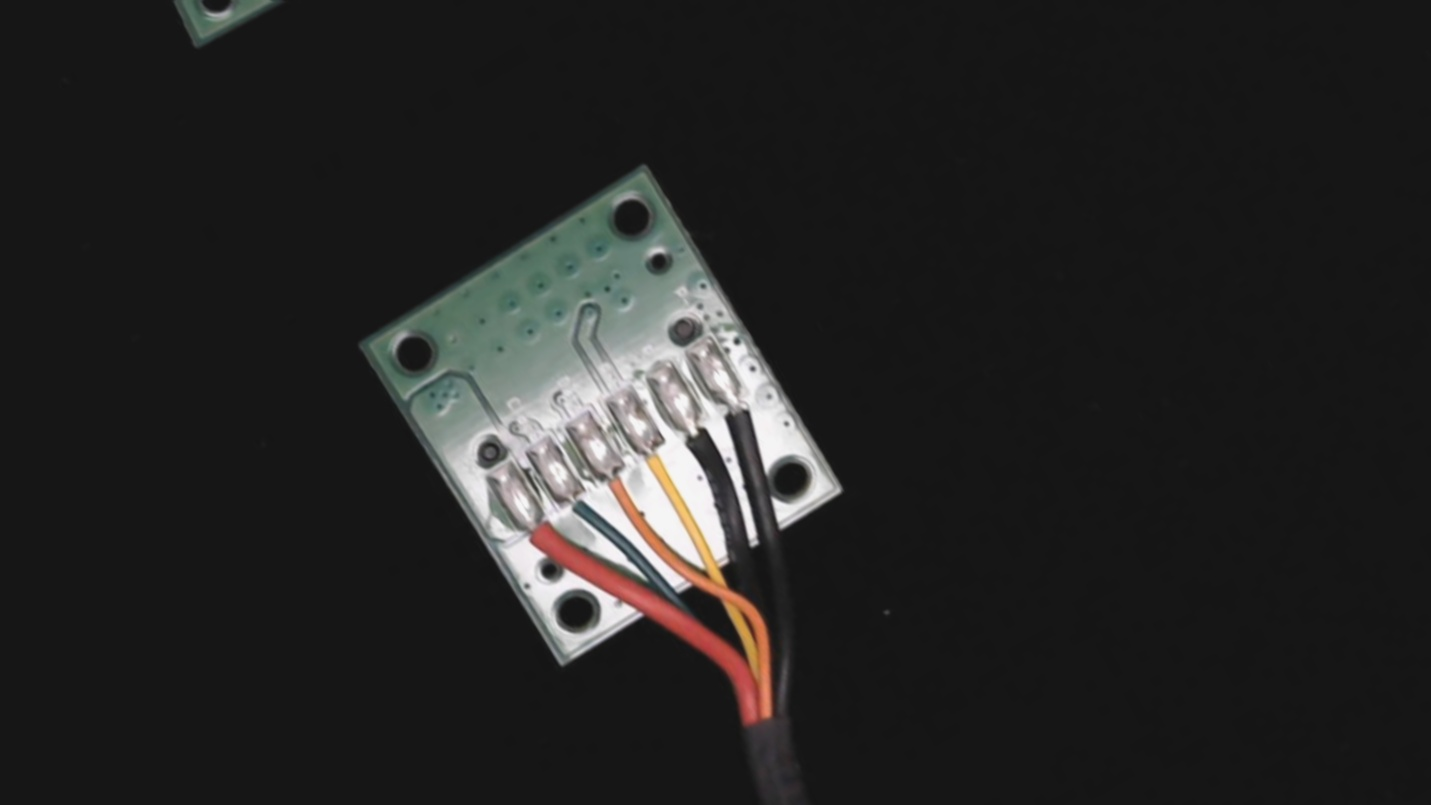Black: (656, 395, 743, 492)
Black1: (699, 366, 781, 456)
Green: (539, 468, 612, 547)
Orange: (581, 447, 661, 537)
Red: (499, 493, 584, 587)
Yellow: (618, 419, 707, 517)
